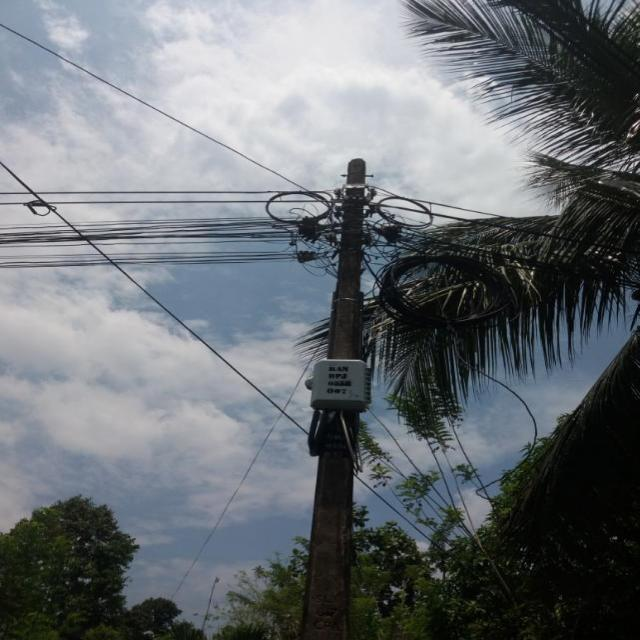light_pole: (300, 150, 383, 640)
